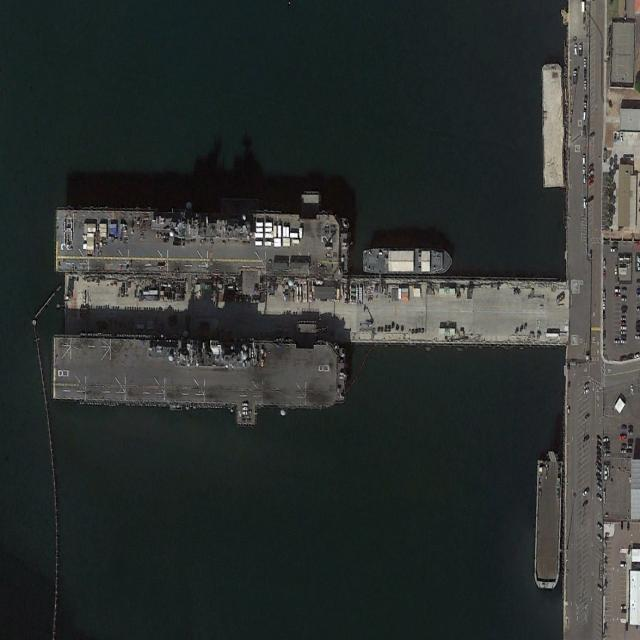Landing: (52, 313, 348, 428), (54, 184, 349, 297)
Other Ship: (361, 246, 453, 274)
